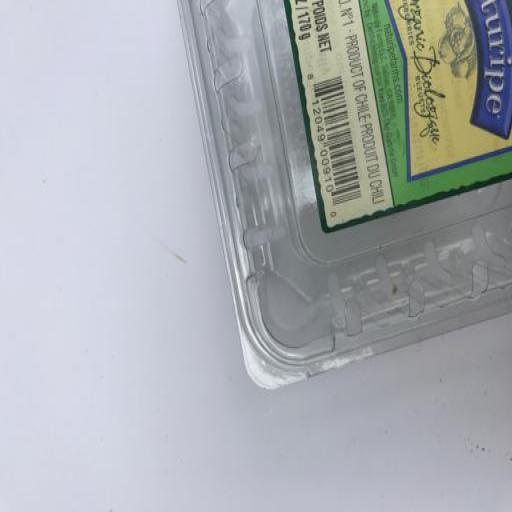waste: (166, 0, 512, 403)
